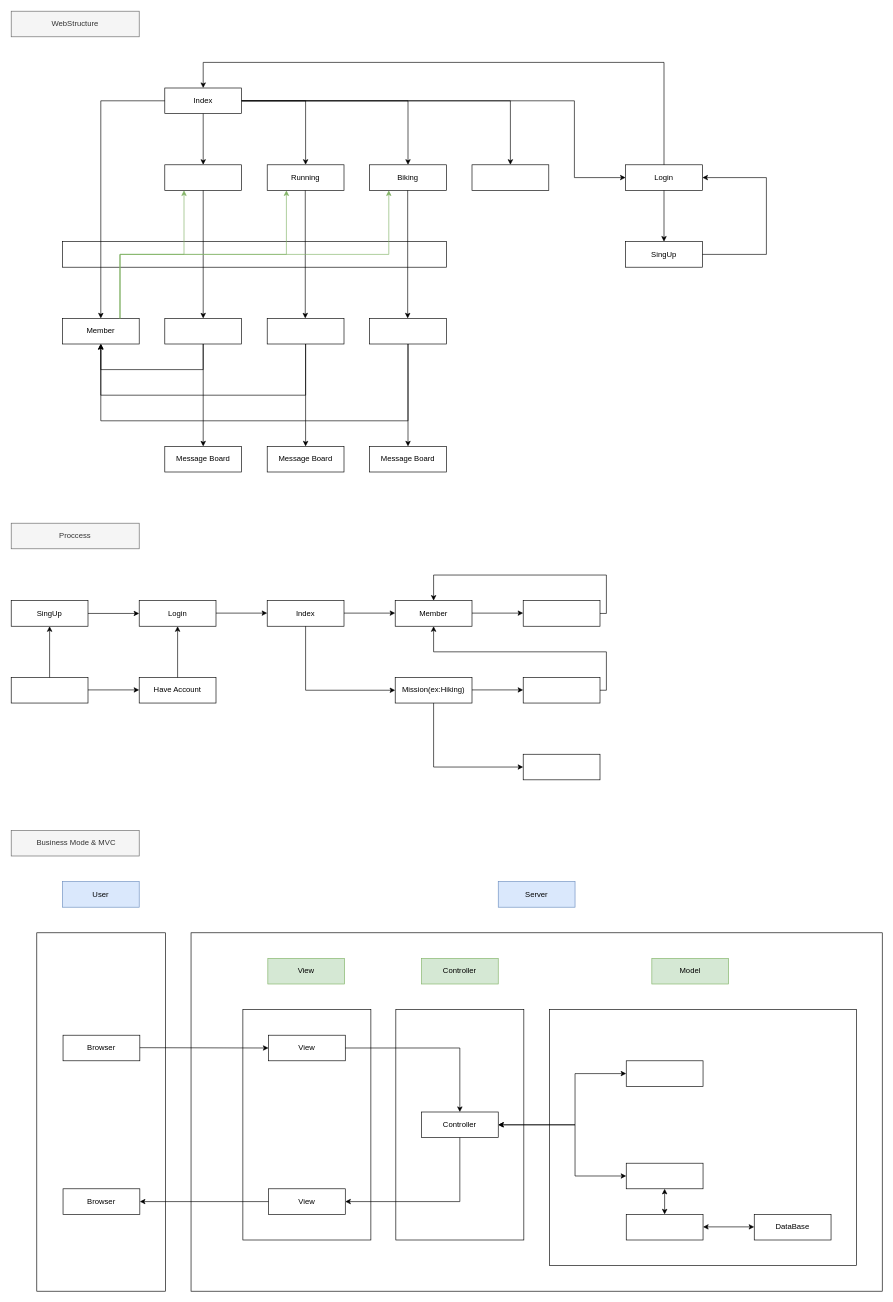
Image size: 893x1302. Some labels were removed from this diagram. The centre of each missing label's shape, as x and y in pixels:
BikingMission: (407,331)
Create Mission: (561,613)
DAO: (664,1227)
Hiking: (203,177)
HikingMission: (203,331)
Image: (664,1073)
Info: (510,177)
Join Mission: (561,690)
RunningMission: (305,331)
Service: (664,1176)
Spring Boot Security: (254,254)
Start: (49,690)
Write Message: (561,767)
